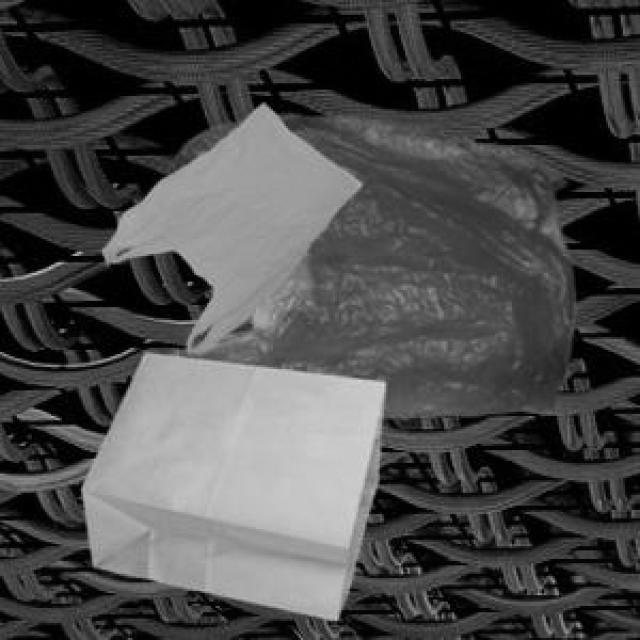paper: (79, 350, 382, 617)
